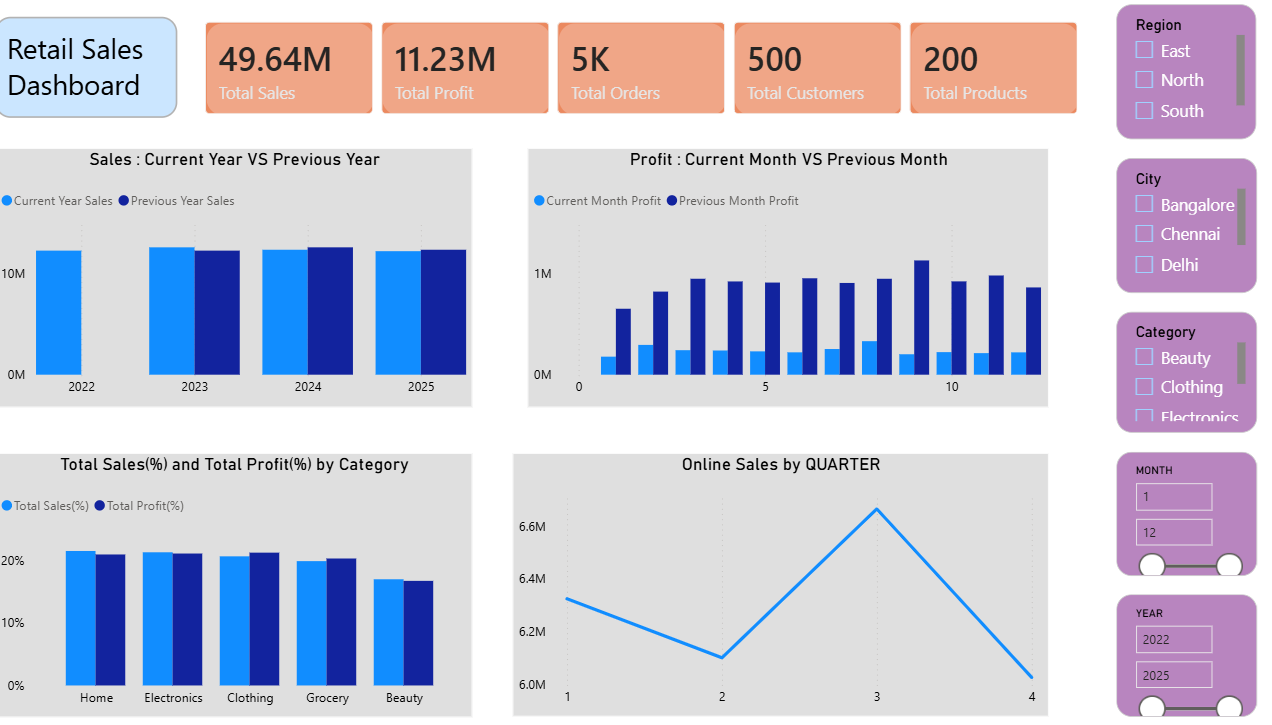

The page's visual inventory and layout, read from the dashboard file:
{"tool":"powerbi","page":{"name":"Time Series Analysis","canvas":[1280,720],"ordinal":1},"visuals":[{"type":"slicer","fields":{"Values":["Dim Customer.Region"]},"box":[1106.2,20,135,130],"z":0},{"type":"slicer","fields":{"Values":["Dim Product.Category"]},"box":[1105.7,317.1,135.7,117.1],"z":1000},{"type":"slicer","fields":{"Values":["Dim Calender.MONTH"]},"box":[1105.7,452.9,135.7,120],"z":2000},{"type":"slicer","fields":{"Values":["Dim Calender.YEAR"]},"box":[1105.7,590,135.7,118.6],"z":3000},{"type":"slicer","fields":{"Values":["Dim Customer.City"]},"box":[1105.7,168.6,135.7,130],"z":4000},{"type":"textbox","box":[24.7,32.9,175.6,97.4],"z":5000},{"type":"cardVisual","fields":{"Data":["Fact Sales.Total Sales","Fact Sales.Total Profit","Fact Sales.Total Orders","Fact Sales.Total Customers","Fact Sales.Total Products"]},"box":[209.9,20.6,876.8,123.5],"z":6000},{"type":"clusteredColumnChart","title":"Sales : Current Year VS Previous Year","fields":{"Category":["Dim Calender.YEAR"],"Y":["Fact Sales.Current Year Sales","Fact Sales.Previous Year Sales"]},"box":[24.4,158.9,461.1,250],"z":7000},{"type":"clusteredColumnChart","title":"Profit : Current Month VS Previous Month ","fields":{"Category":["Dim Calender.MONTH"],"Y":["Fact Sales.Current Month Profit","Fact Sales.Previous Month Profit"]},"box":[537.8,158.9,503.3,250],"z":8000},{"type":"clusteredColumnChart","fields":{"Category":["Dim Product.Category"],"Y":["Fact Sales.Total Sales(%)","Fact Sales.Total Profit(%)"]},"box":[24.4,453.3,461.1,255.6],"z":9000},{"type":"lineChart","fields":{"Category":["Dim Calender.QUARTER"],"Y":["Fact Sales.Online Sales"]},"box":[523.6,453.6,517.6,254.6],"z":10000}]}

Visuals, with their boxes in screenshot pixels (x1, y1, x2, y2), scaled from the page's 1280x720 canvas onto the 1272x725 screenshot:
slicer - Dim Customer.Region: 1099,20,1233,151
slicer - Dim Product.Category: 1099,319,1234,437
slicer - Dim Calender.MONTH: 1099,456,1234,577
slicer - Dim Calender.YEAR: 1099,594,1234,714
slicer - Dim Customer.City: 1099,170,1234,301
textbox: 25,33,199,131
cardVisual - Fact Sales.Total Sales x Fact Sales.Total Profit: 209,21,1080,145
"Sales : Current Year VS Previous Year" clusteredColumnChart: 24,160,482,412
"Profit : Current Month VS Previous Month " clusteredColumnChart: 534,160,1035,412
clusteredColumnChart - Dim Product.Category x Fact Sales.Total Sales(%): 24,456,482,714
lineChart - Dim Calender.QUARTER x Fact Sales.Online Sales: 520,457,1035,713
